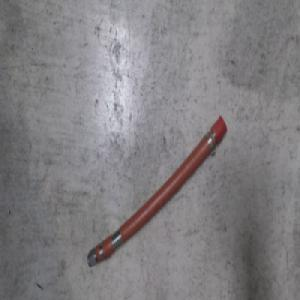Hose: (86, 113, 225, 269)
